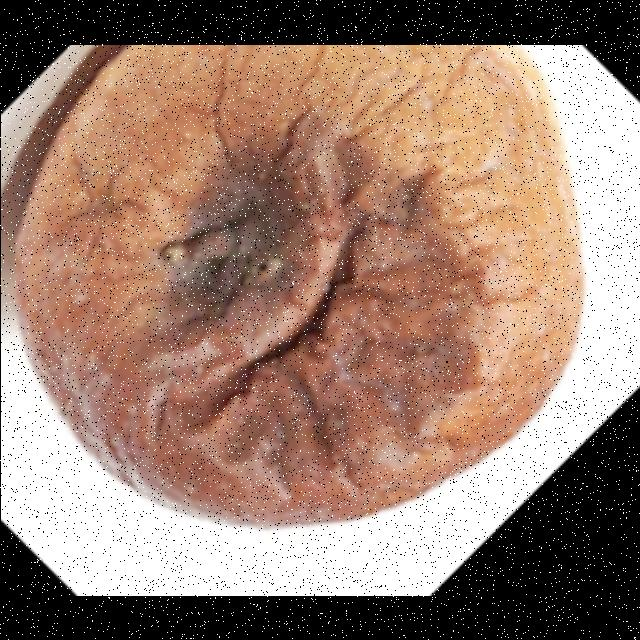Apel Tidak Segar: (0, 44, 640, 566)
